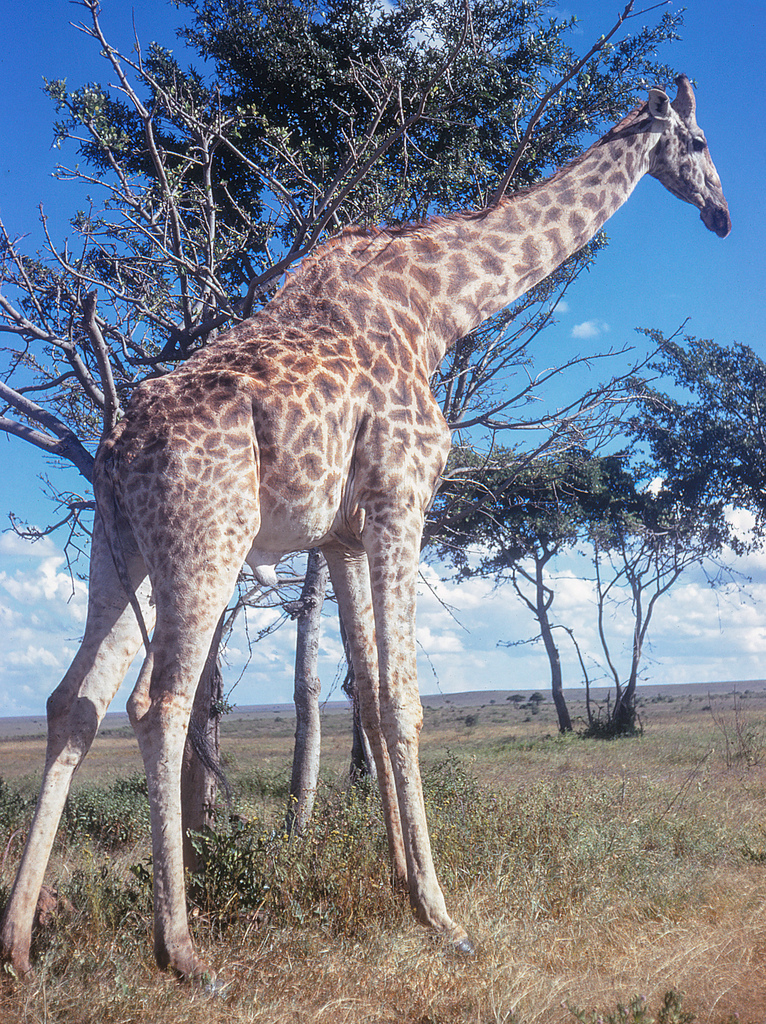giraffe: (74, 79, 753, 1008)
